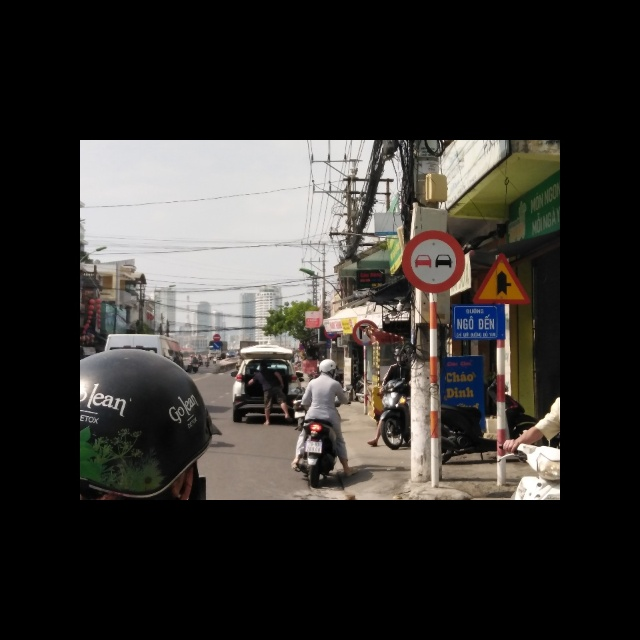Cấm vượt: (399, 229, 464, 294)
Giao nhau với đường không ưu tiên: (472, 249, 531, 304)
